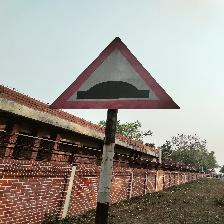Speed-breaker: (49, 38, 180, 110)
